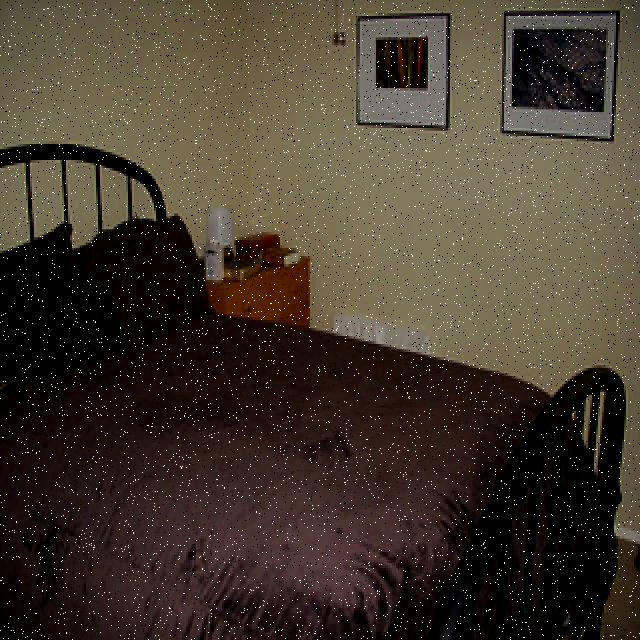bed: (4, 145, 607, 640)
